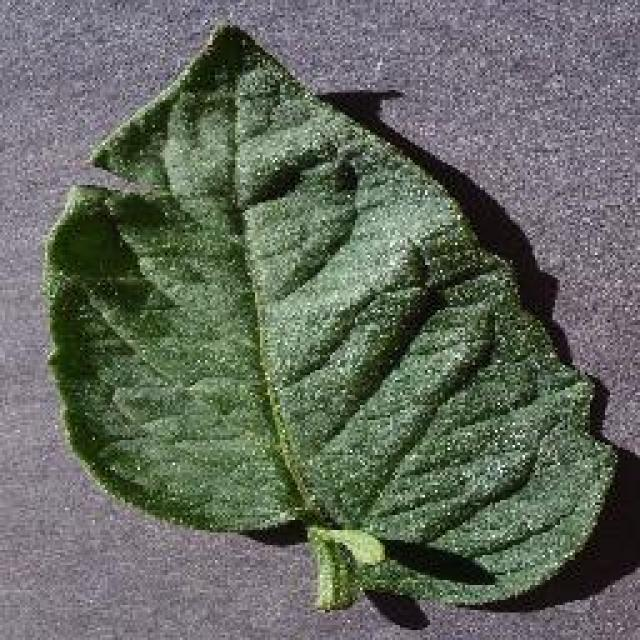healthy: (46, 25, 624, 602)
